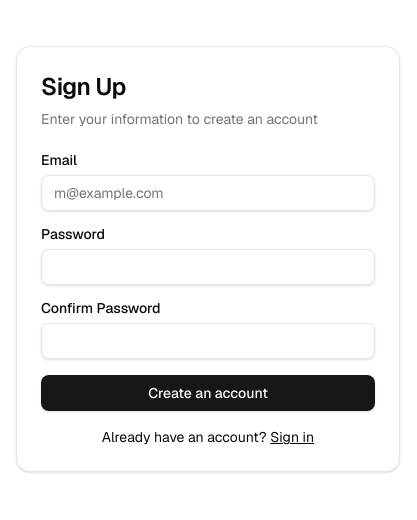
Test: SignUp Page › shows validation error for empty password
Type "test@example.com" into the field labelled "Email" at (208, 193), box [41,175,375,211]
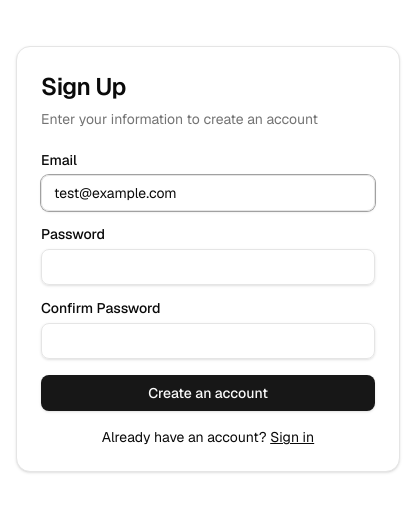
Click the button "Create an account" at (208, 393), box [41,375,375,411]
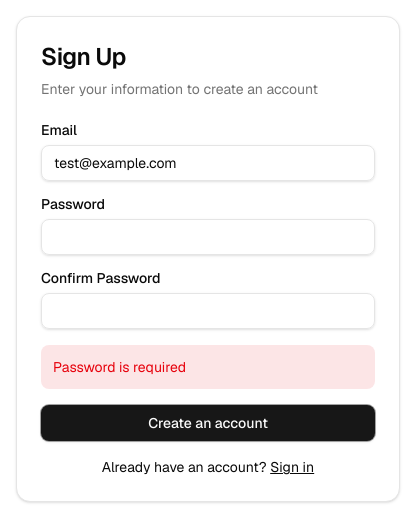
Expected: the message shows "Password", [53,358,186,376]
